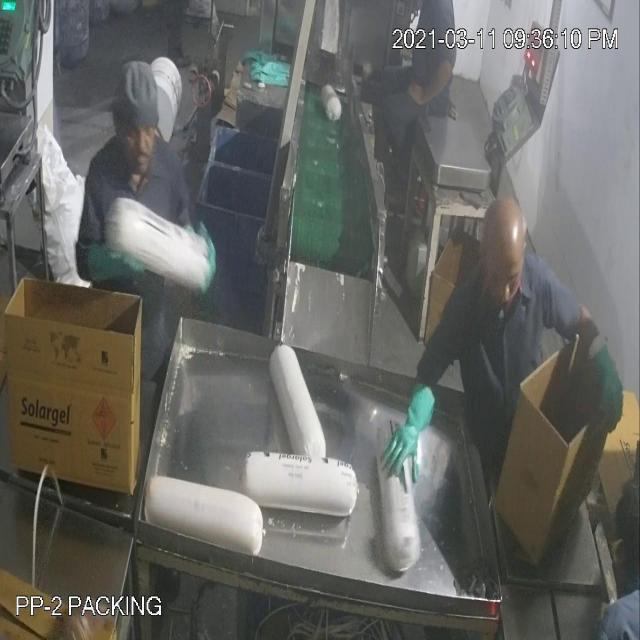No_Gloves: (56, 66, 430, 426)
